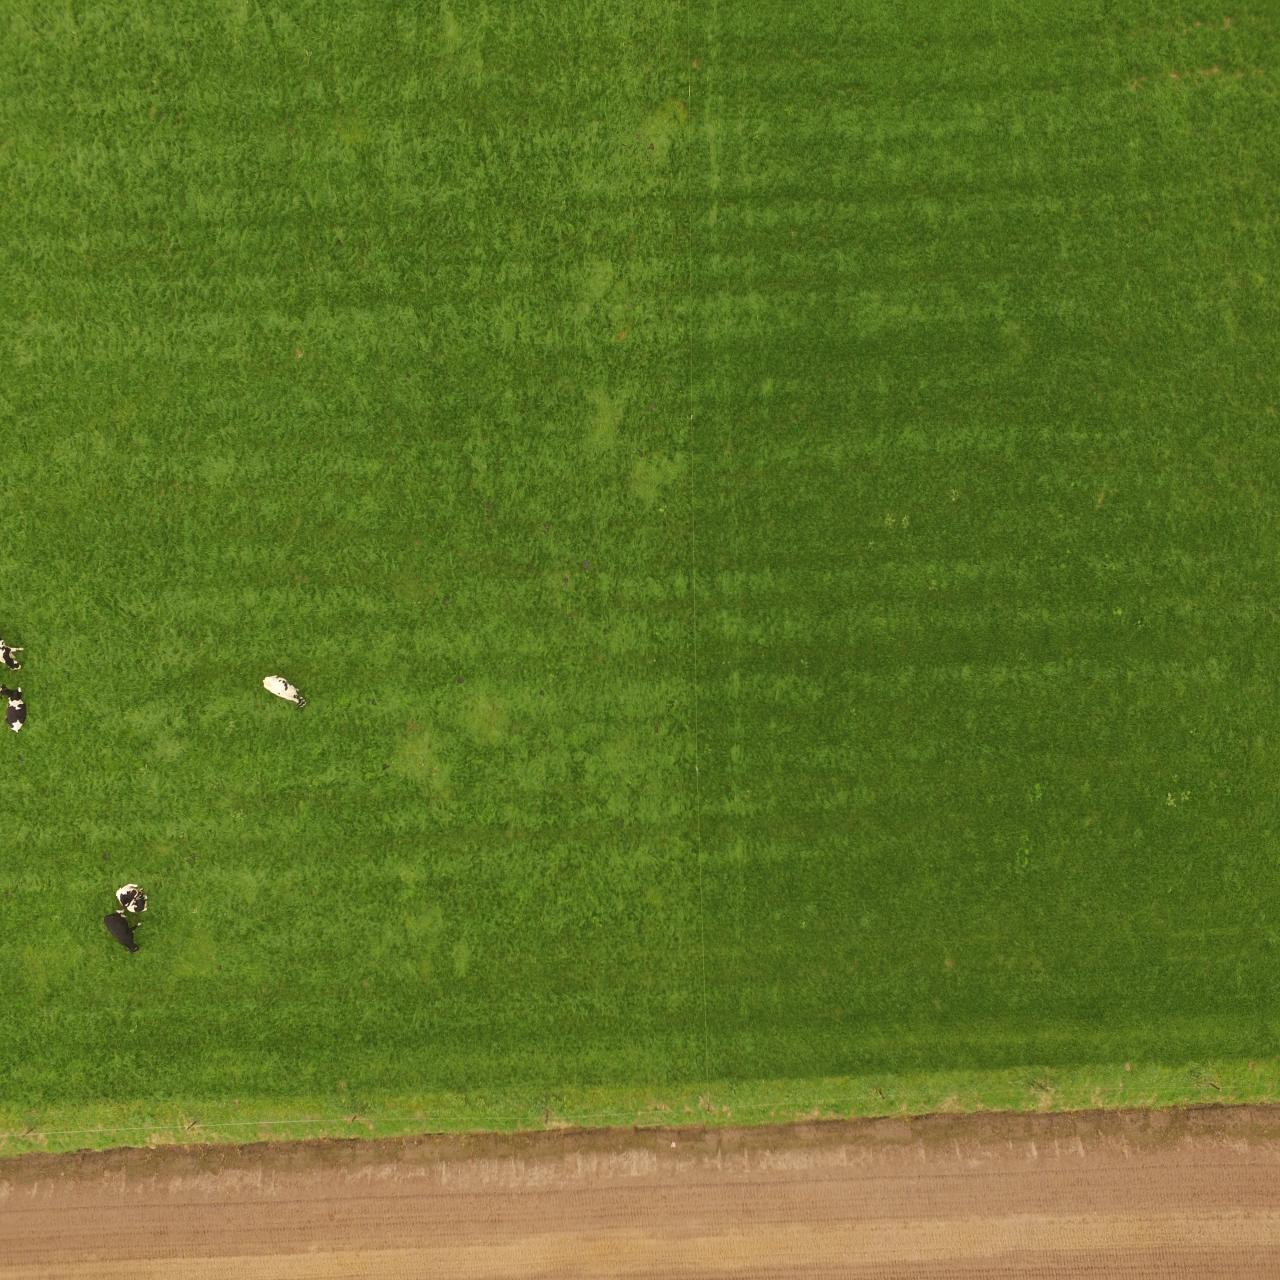cow: (98, 912, 145, 956), (260, 673, 307, 710), (0, 681, 22, 744), (116, 879, 157, 910)
